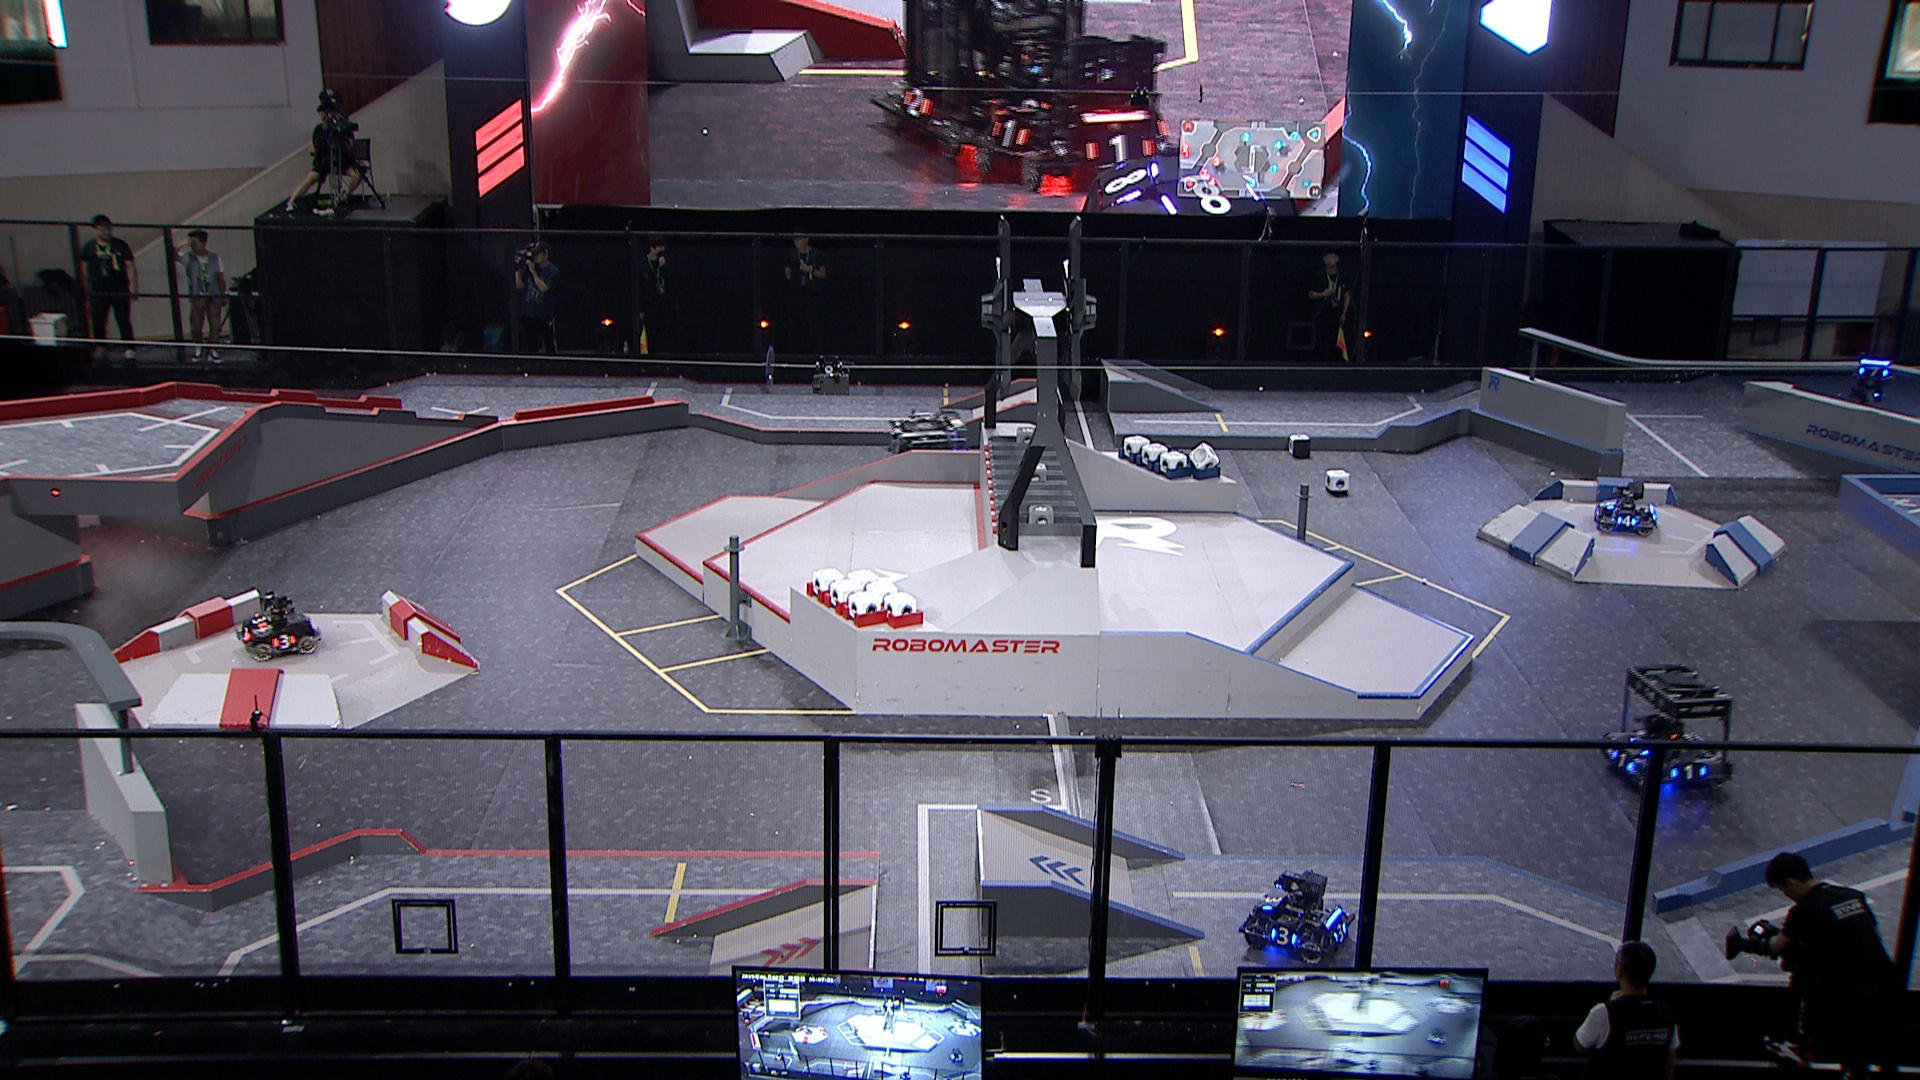armor: (1269, 926, 1299, 949), (1610, 749, 1636, 774), (1665, 764, 1704, 779), (1858, 365, 1890, 380), (1261, 891, 1282, 913), (1333, 920, 1349, 945), (272, 632, 297, 647), (1615, 514, 1638, 527), (237, 624, 253, 642), (251, 613, 266, 629)
car: (1602, 665, 1735, 794), (1238, 869, 1356, 964), (884, 410, 965, 495), (233, 593, 324, 662), (1592, 476, 1659, 537)
ignore: (862, 0, 1088, 156), (964, 33, 1172, 191), (1077, 146, 1299, 219)
watcher: (1849, 352, 1896, 404)
